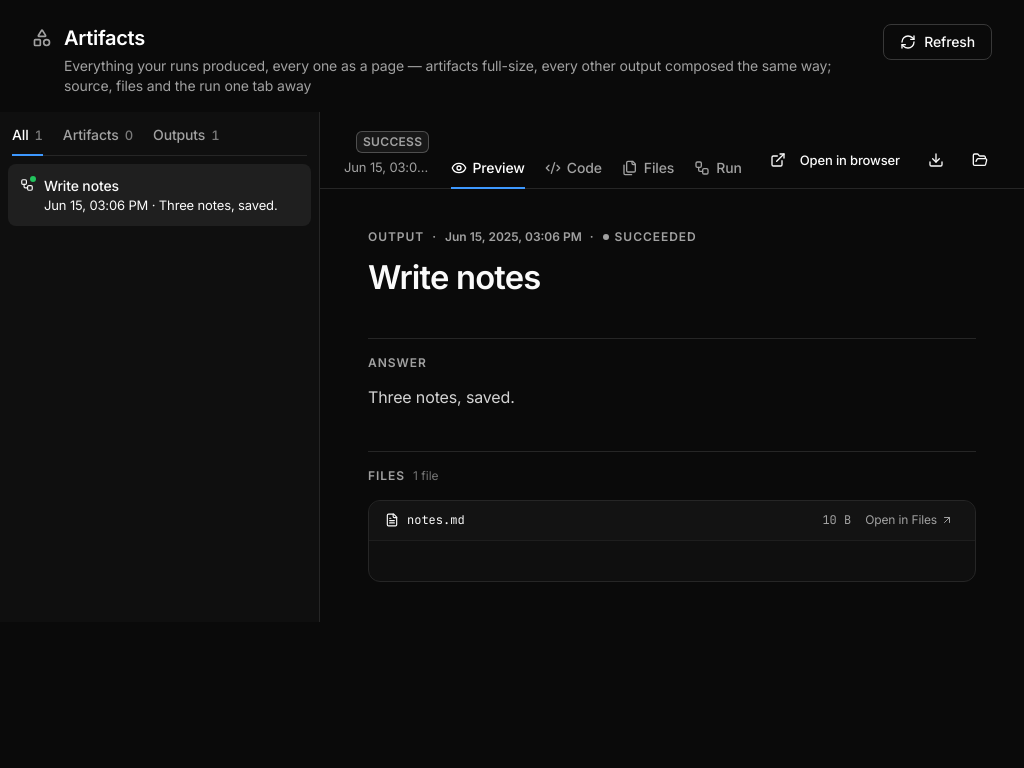
Scenario: VisualizationView — runs without an artifact › lists a page-less run as a run row and opens it on Preview as a page, Files one tab away
Check: the number of buttons with test id "visualization-run-row" is 1, box left=8, top=164, right=311, bottom=226
Check: the button with test id "visualization-run-row" shows "Write notes", box left=8, top=164, right=311, bottom=226
Click the tab with test id "visualization-tab-files" at (648, 169), box left=622, top=149, right=674, bottom=189
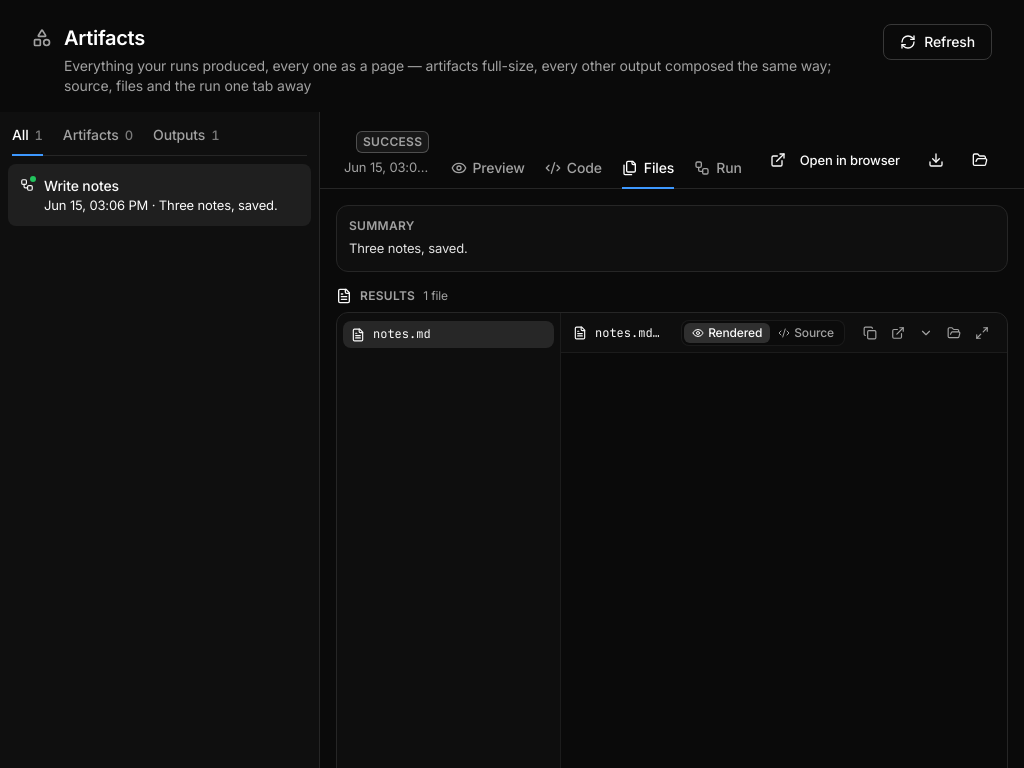
Check: the text with test id "run-status-badge" reads "success", box left=363, top=134, right=422, bottom=149
Check: the element with test id "run-notes" is shown, box left=336, top=205, right=1008, bottom=272
Check: the element with test id "artifact-path" reads "notes.md", box left=373, top=326, right=431, bottom=342
